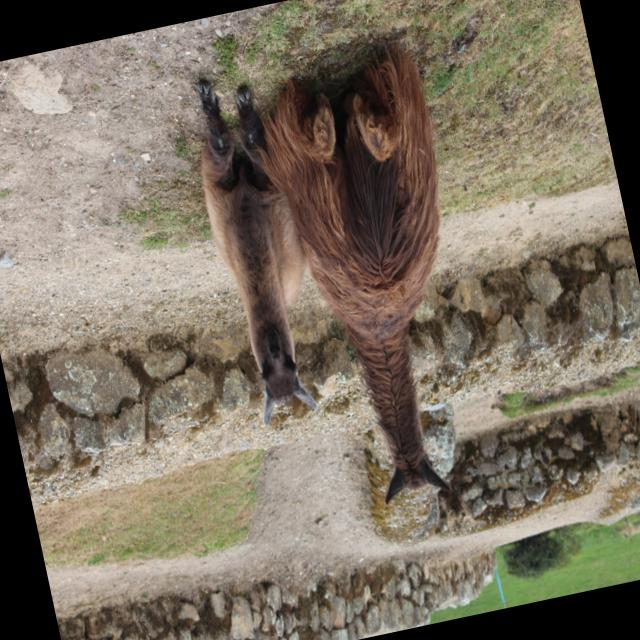alpaca: (267, 48, 508, 510), (180, 59, 341, 424)
